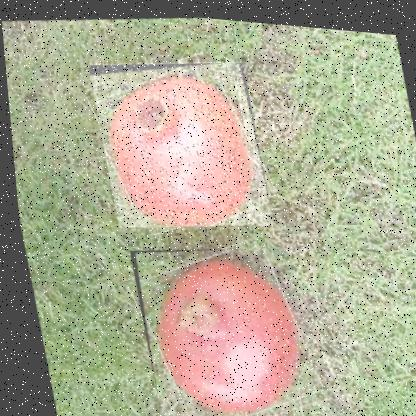pomegranate: (84, 42, 271, 236), (122, 230, 314, 415)
